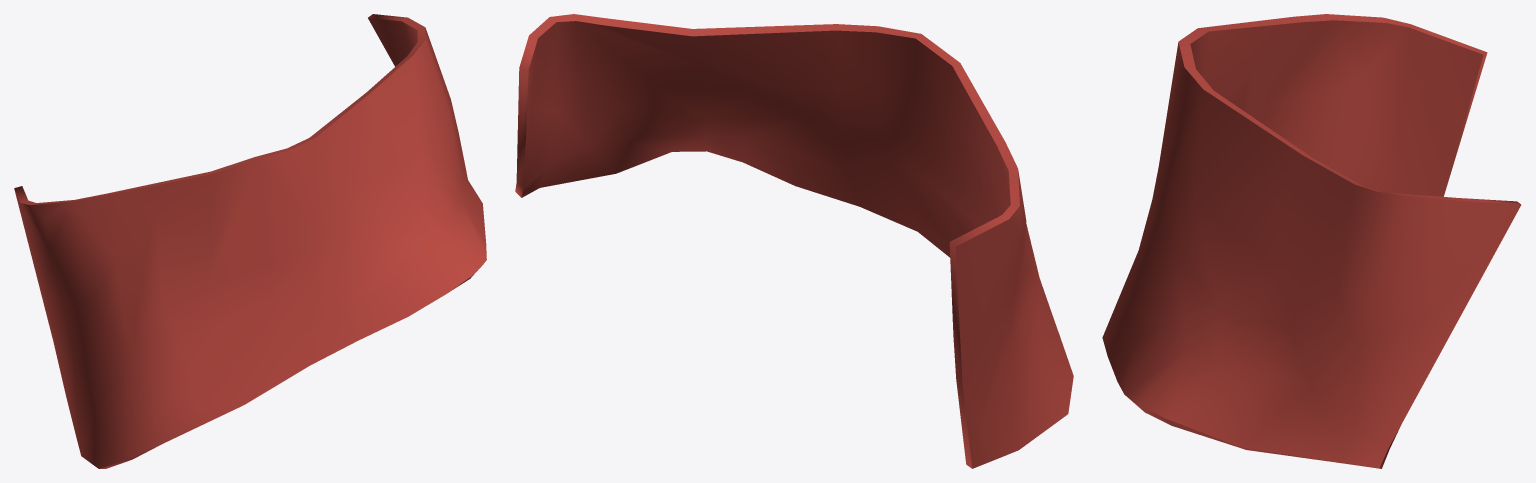
Rendered from musculos-flexor-retinaculum-of-wrist-l.glb.
3 views of the same model, side by side, from view 1: azimuth 30°, elevation 25°; view 2: azimuth 150°, elevation 25°; view 3: azimuth 270°, elevation 25° (orthographic). The views are drawn at different scales.
Visible parts, largest first — view 1: Flexor retinaculum of wrist.l; view 2: Flexor retinaculum of wrist.l; view 3: Flexor retinaculum of wrist.l.
Part boxes in pixels (x1=…): Flexor retinaculum of wrist.l: x1=14, y1=14, x2=486, y2=468; Flexor retinaculum of wrist.l: x1=515, y1=14, x2=1073, y2=468; Flexor retinaculum of wrist.l: x1=1102, y1=14, x2=1521, y2=468.
Size of the model in its own units: 0.0604 by 0.0411 by 0.0343.
